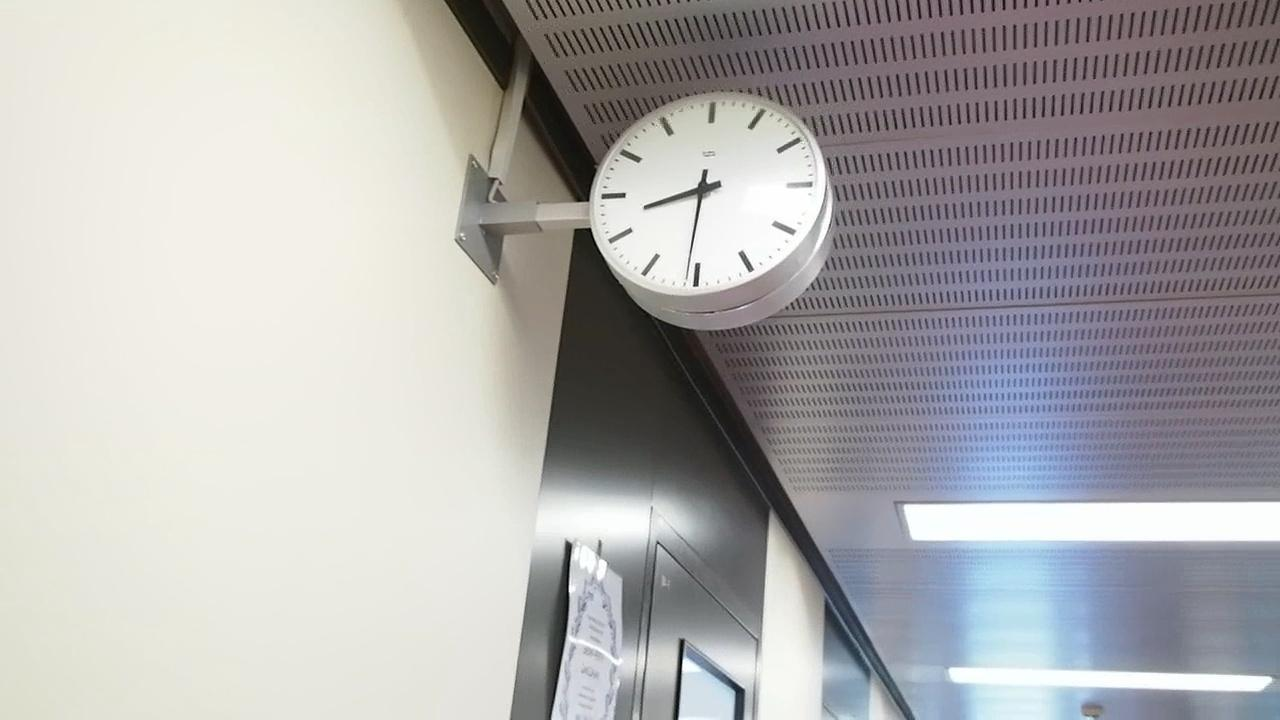clock: (583, 78, 840, 321)
